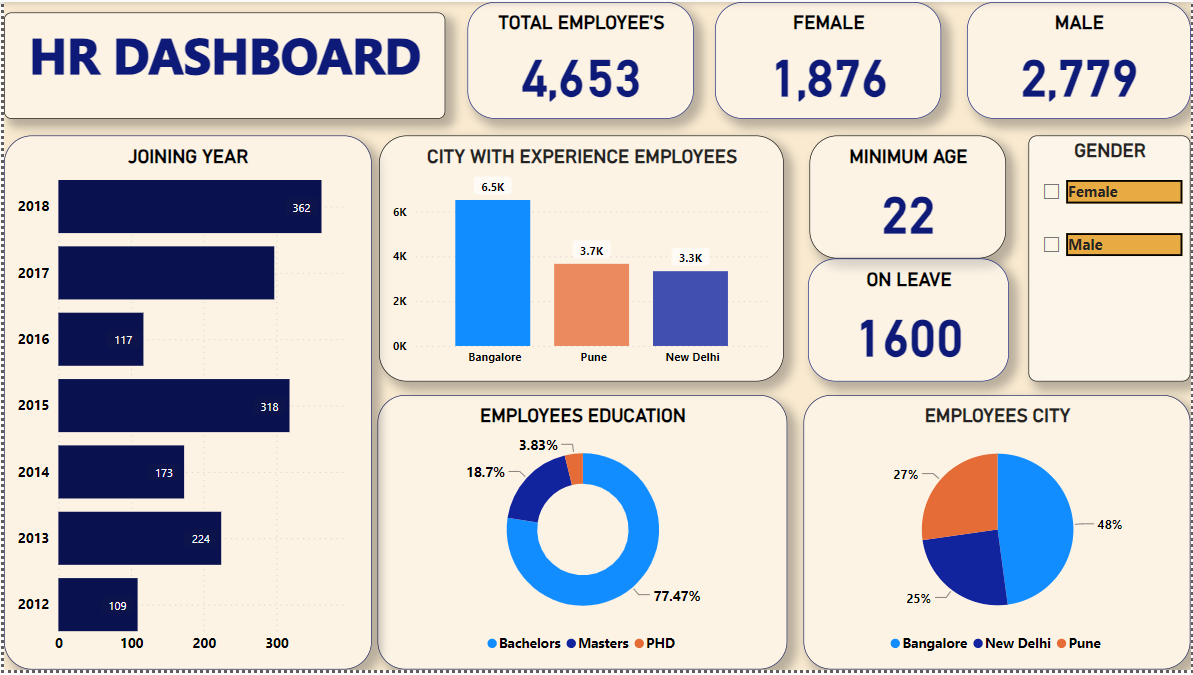

The page's visual inventory and layout, read from the dashboard file:
{"tool":"powerbi","page":{"name":"Page 1","canvas":[1280,720],"ordinal":0},"visuals":[{"type":"card","title":"FEMALE","fields":{"Values":["CountNonNull(FEMALE.Column1)"]},"box":[766.9,0,244.3,126.2],"z":0},{"type":"card","title":"TOTAL EMPLOYEE''S","fields":{"Values":["CountNonNull(employeeee.Gender)"]},"box":[500,0,244.3,126.2],"z":1000},{"type":"card","title":"MALE","fields":{"Values":["CountNonNull(MALE.Column1)"]},"box":[1038.7,0,241.1,126.2],"z":2000},{"type":"donutChart","title":"EMPLOYEES EDUCATION","fields":{"Category":["employeeee.Education"],"Y":["Sum(employeeee.Age)"]},"box":[402.9,423.9,441.7,296.1],"z":3000},{"type":"clusteredBarChart","title":"JOINING YEAR","fields":{"Category":["employeeee.JoiningYear"],"Y":["Sum(employeeee.LeaveOrNot)"]},"box":[0,144,396.4,576],"z":4000},{"type":"pieChart","title":"EMPLOYEES CITY","fields":{"Series":["employeeee.City"],"Y":["Sum(employeeee.JoiningYear)"]},"box":[862.4,423.9,417.4,296.1],"z":5000},{"type":"textbox","box":[0,11.3,475.7,114.9],"z":6000},{"type":"card","title":"MINIMUM AGE","fields":{"Values":["Min(employeeee.Age)"]},"box":[868.9,144,212,132.7],"z":7000},{"type":"slicer","title":"GENDER","fields":{"Values":["employeeee.Gender"]},"box":[1105.1,144,174.7,265.3],"z":8000},{"type":"card","title":"ON LEAVE","fields":{"Values":["Sum(employeeee.LeaveOrNot)"]},"box":[867.2,276.7,216.8,132.7],"z":9000},{"type":"lineClusteredColumnComboChart","title":"CITY WITH EXPERIENCE EMPLOYEES","fields":{"Category":["employeeee.City"],"Y":["Sum(employeeee.ExperienceInCurrentDomain)"]},"box":[404.5,144,436.9,265.3],"z":10000}]}

Visuals, with their boxes in screenshot pixels (x1, y1, x2, y2), scaled from the page's 1280x720 canvas onto the 1193x675 screenshot:
"FEMALE" card: (715, 0, 942, 118)
"TOTAL EMPLOYEE''S" card: (466, 0, 694, 118)
"MALE" card: (968, 0, 1192, 118)
"EMPLOYEES EDUCATION" donutChart: (376, 397, 787, 674)
"JOINING YEAR" clusteredBarChart: (0, 135, 369, 674)
"EMPLOYEES CITY" pieChart: (804, 397, 1192, 674)
textbox: (0, 11, 443, 118)
"MINIMUM AGE" card: (810, 135, 1007, 259)
"GENDER" slicer: (1030, 135, 1192, 384)
"ON LEAVE" card: (808, 259, 1010, 384)
"CITY WITH EXPERIENCE EMPLOYEES" lineClusteredColumnComboChart: (377, 135, 784, 384)
